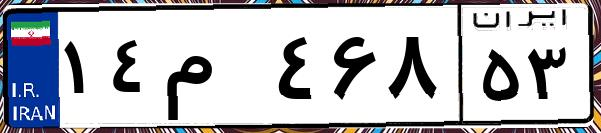1: (57, 26, 110, 100)
3: (525, 38, 570, 115)
4: (270, 28, 330, 110), (110, 28, 158, 98)
5: (475, 38, 525, 113)
6: (330, 28, 385, 110)
8: (385, 28, 445, 110)
م: (158, 20, 270, 120)
